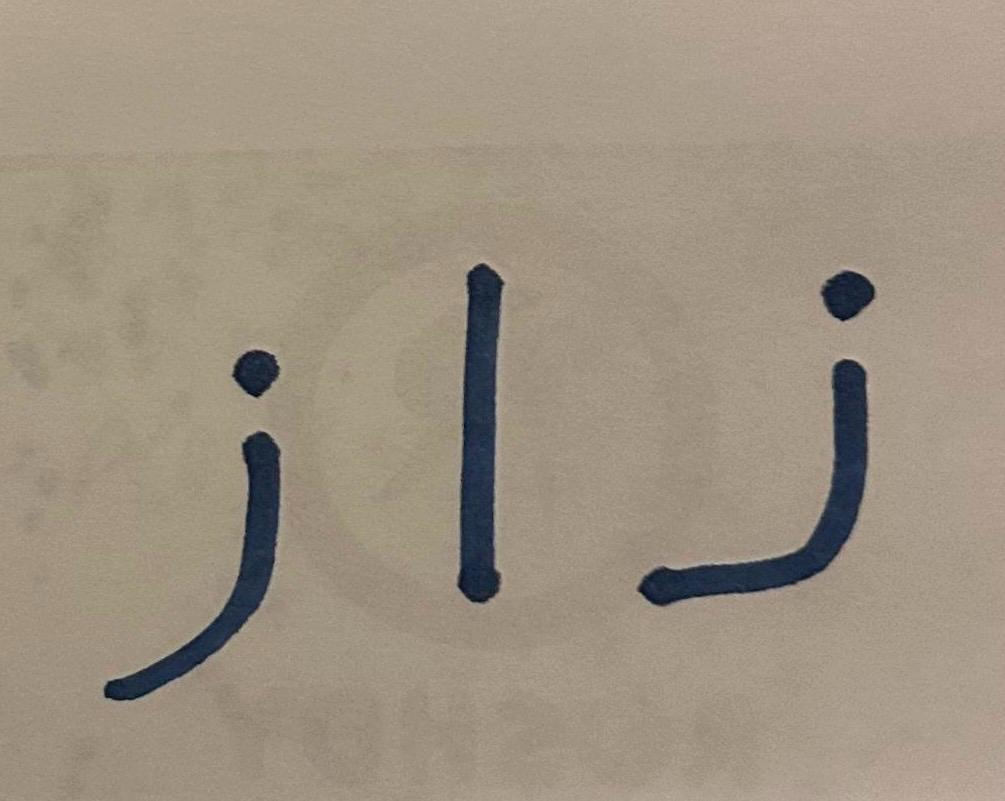ain: (609, 221, 975, 671)
alef: (365, 178, 599, 677)
hamza: (38, 247, 355, 731)
